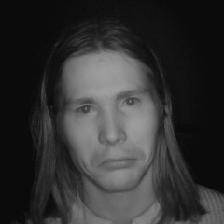sad: (34, 21, 208, 214)
